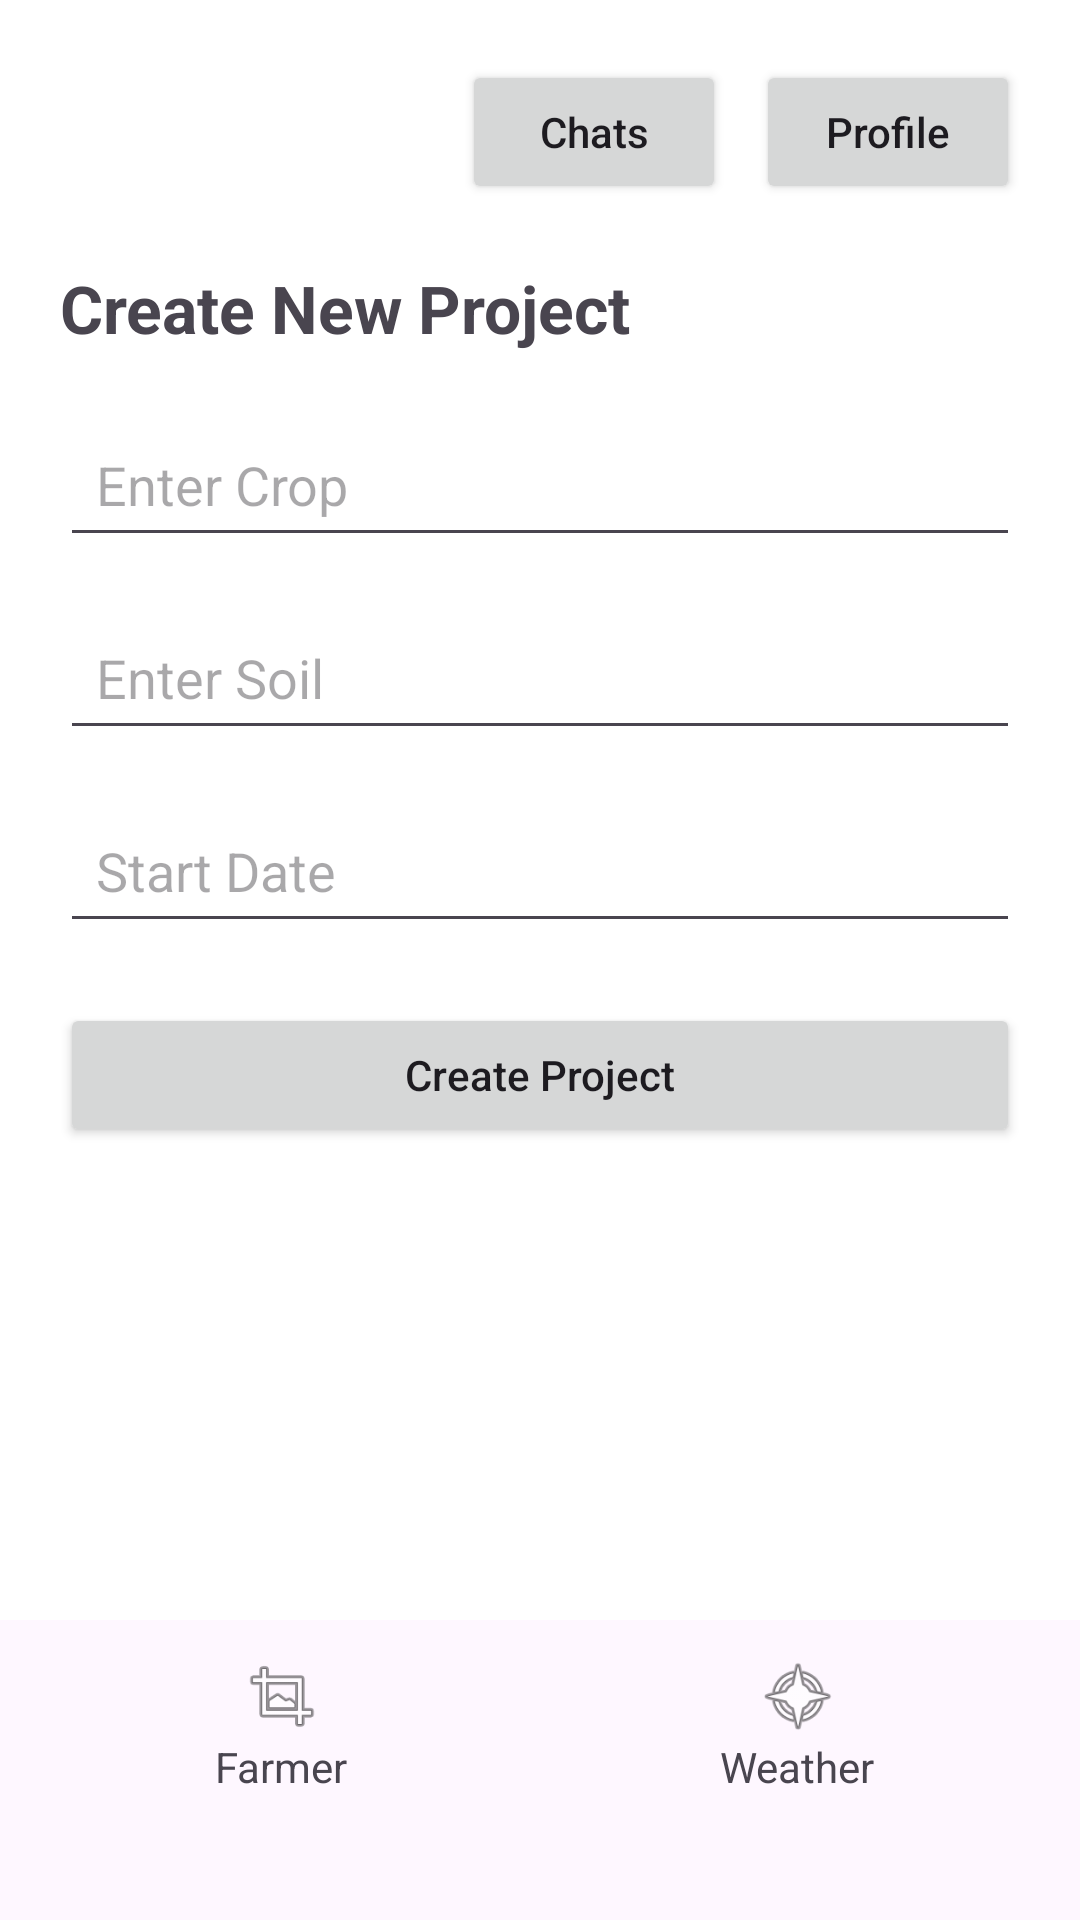

Icons on this 1080x1920 Android screen, each with the point to tap as (x,y):
compass: (797,1696)
crop: (282,1696)
